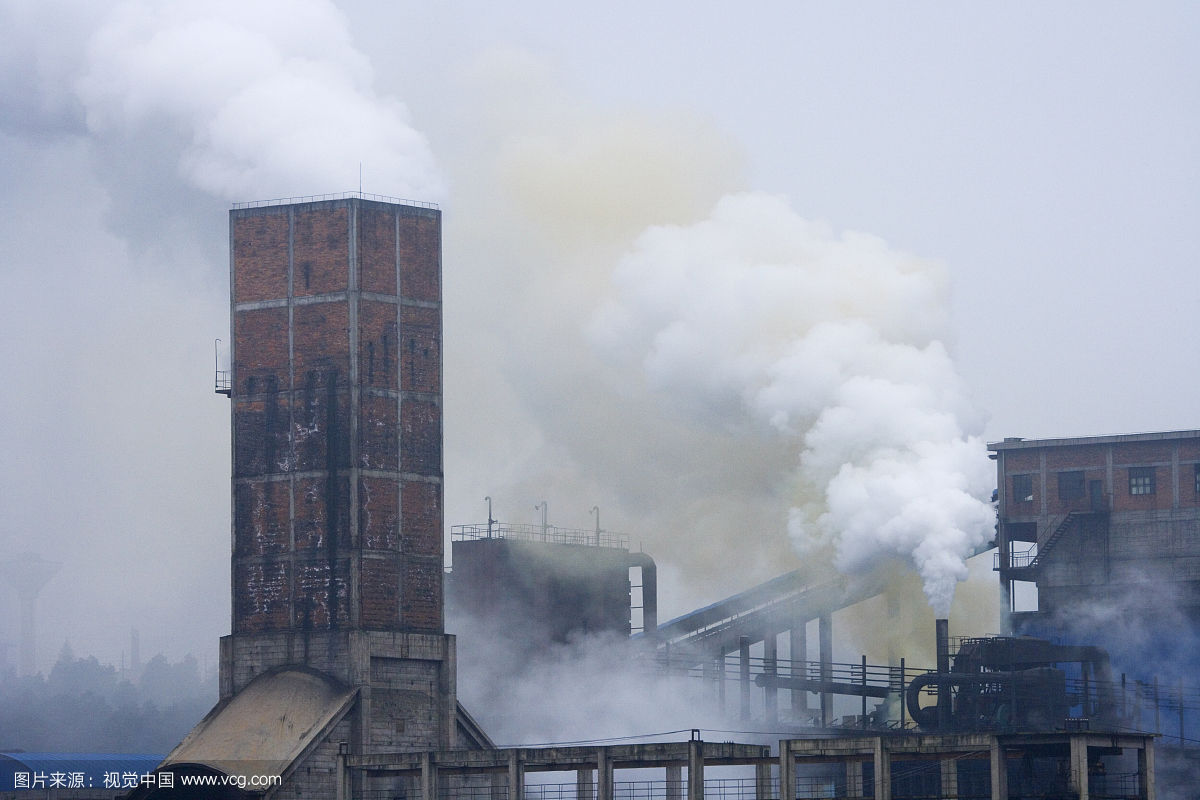dust: (680, 216, 998, 649), (29, 11, 463, 259)
